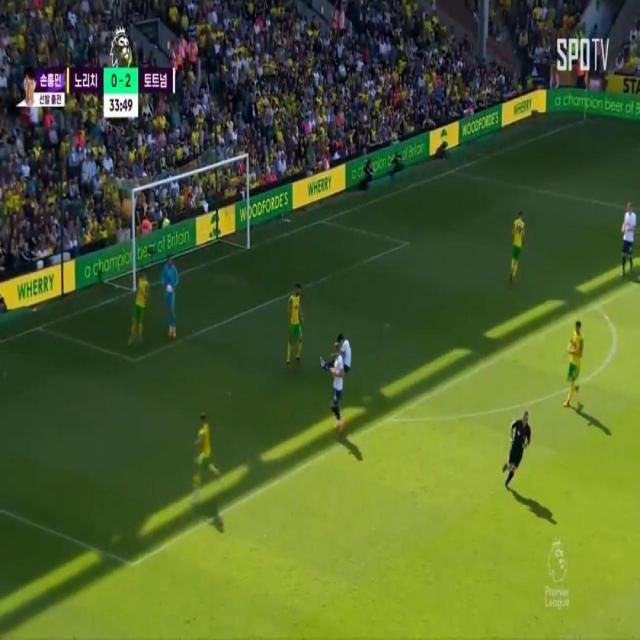ball: (167, 284, 177, 296)
goalkeeper: (159, 243, 187, 346)
player: (188, 408, 225, 497), (130, 262, 152, 352), (324, 347, 346, 437), (319, 323, 358, 373), (617, 201, 639, 284), (566, 319, 582, 409), (288, 287, 306, 362), (507, 211, 525, 281)
referee: (507, 411, 540, 487)
